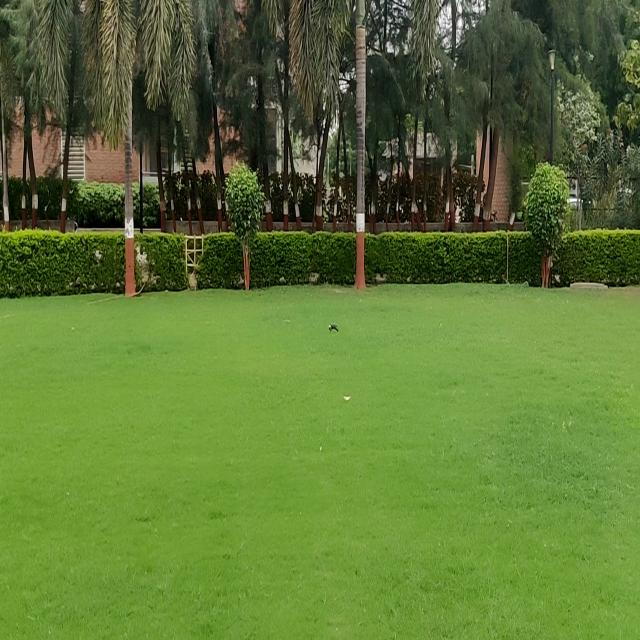drone: (328, 321, 341, 334)
